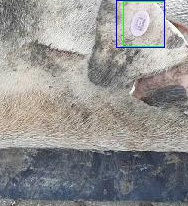text: (123, 1, 164, 46)
